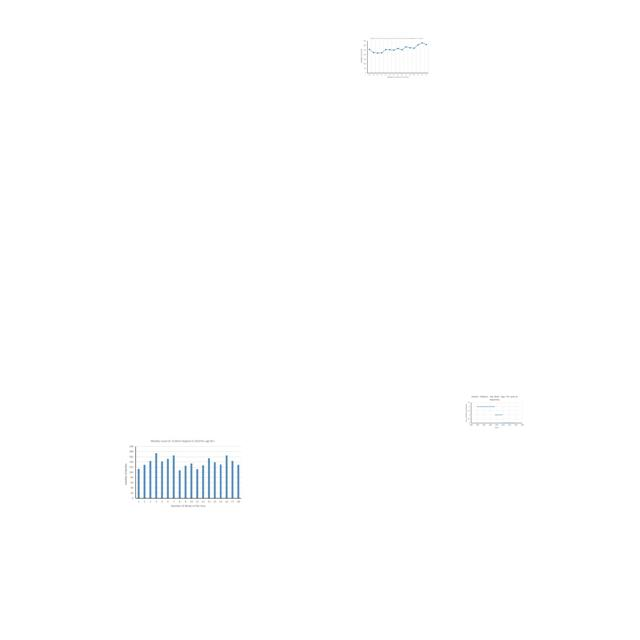Graph: (121, 437, 244, 511), (359, 36, 430, 80), (464, 394, 525, 430)
